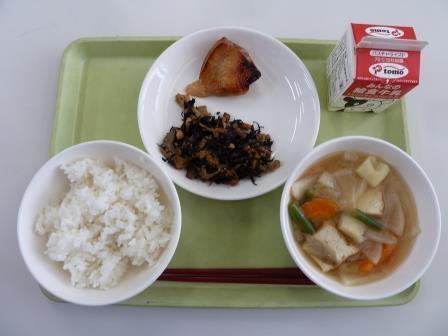Meat: (175, 30, 265, 103)
Milk: (322, 17, 431, 126)
Rice: (17, 139, 172, 292)
Soups: (288, 144, 425, 297)
salad with sauce: (166, 100, 273, 190)
